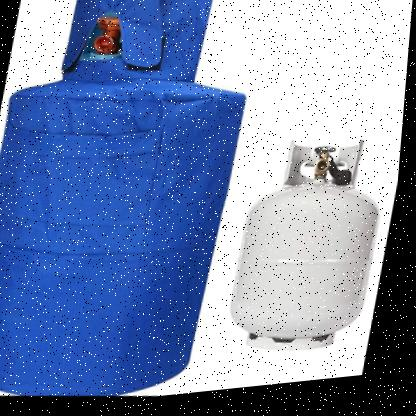gas-tank: (226, 116, 402, 375)
